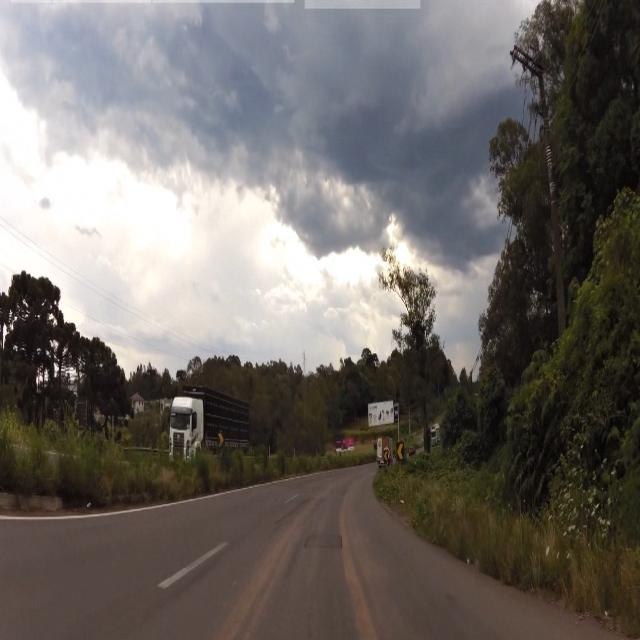Del: (395, 440, 405, 466), (217, 431, 224, 448)
